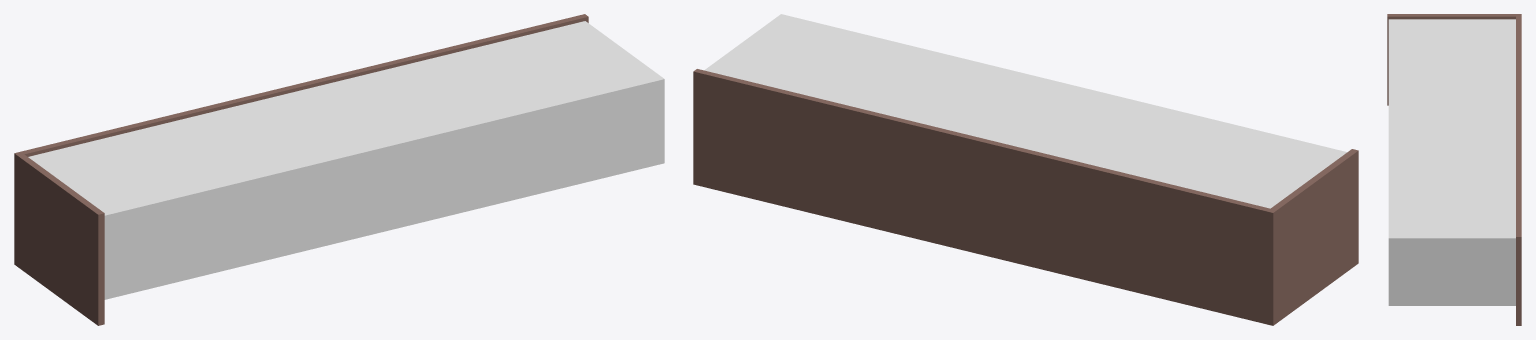
File: kitchen-run.glb
The picture shows the model from 3 angles, left to right: view 1: azimuth 30°, elevation 25°; view 2: azimuth 150°, elevation 25°; view 3: azimuth 270°, elevation 25°; orthographic projection. The views are drawn at different scales.
Parts seen in each view (by area): view 1: kitchen_item_056; view 2: kitchen_item_056; view 3: kitchen_item_056.
Boxes of the visible parts, bbox=[...] form: kitchen_item_056: bbox=[14, 14, 664, 325]; kitchen_item_056: bbox=[693, 14, 1358, 325]; kitchen_item_056: bbox=[1387, 14, 1521, 325].
Size of the model in its own units: 4.7 by 0.8751 by 1.2.
1 material, 1 textured.
